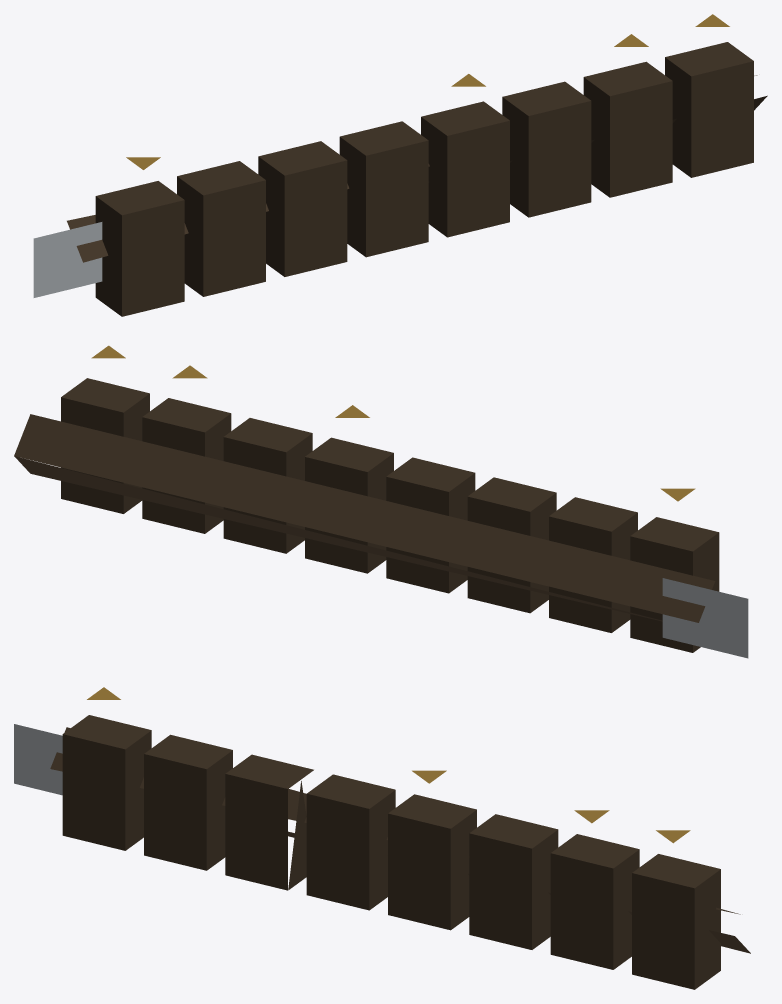
The model's file is bandolier.lod.glb.
The picture shows the model from 3 angles, top to bottom: view 1: azimuth 30°, elevation 25°; view 2: azimuth 150°, elevation 25°; view 3: azimuth 330°, elevation 25°; orthographic projection.
Visible parts, largest first — view 1: m; view 2: m; view 3: m.
Boxes of the visible parts, <box> form: m: <box>33,14,767,316</box>; m: <box>14,345,748,658</box>; m: <box>14,687,750,989</box>.
Bounding box in the file's own units: 0.26 × 0.0479 × 0.0285.
